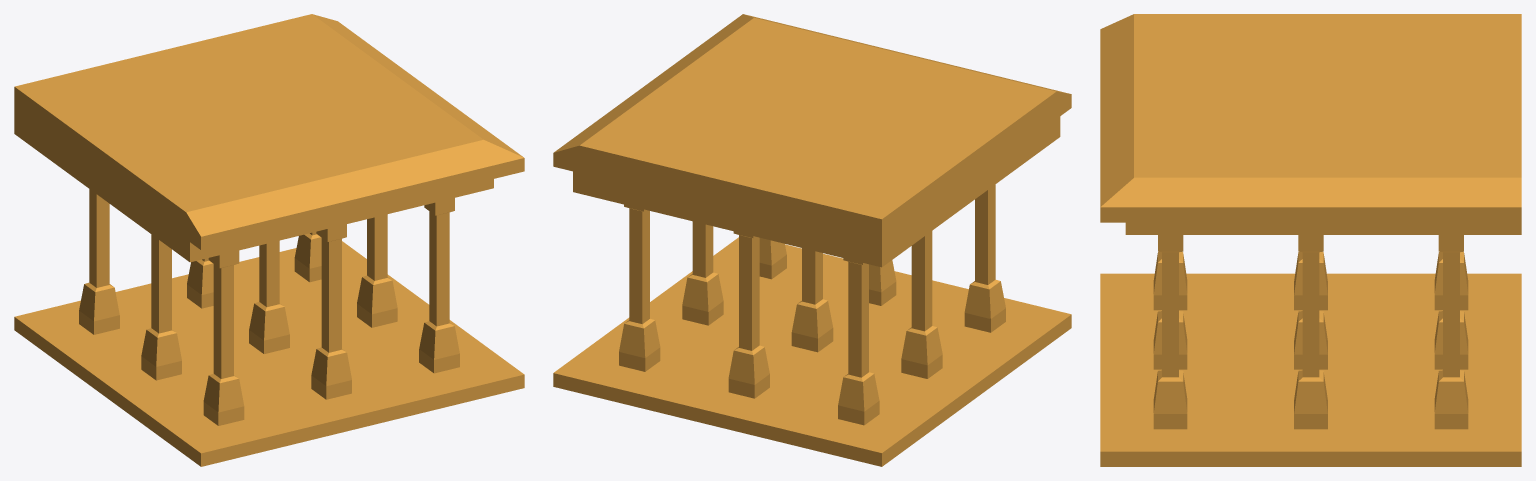
The model's file is hindu-pillars-edge.fbx.
3 renders of one model, left to right at view 1: azimuth 30°, elevation 25°; view 2: azimuth 150°, elevation 25°; view 3: azimuth 270°, elevation 25°, orthographic. The views are drawn at different scales.
Parts seen in each view (by area): view 1: hindu-pillars-edge; view 2: hindu-pillars-edge; view 3: hindu-pillars-edge.
Boxes of the visible parts, x1,y1,x2,y2 form: hindu-pillars-edge: (14,14,524,466); hindu-pillars-edge: (553,14,1071,466); hindu-pillars-edge: (1100,14,1521,466).
Size of the model in its own units: 5 by 3.6 by 5.
